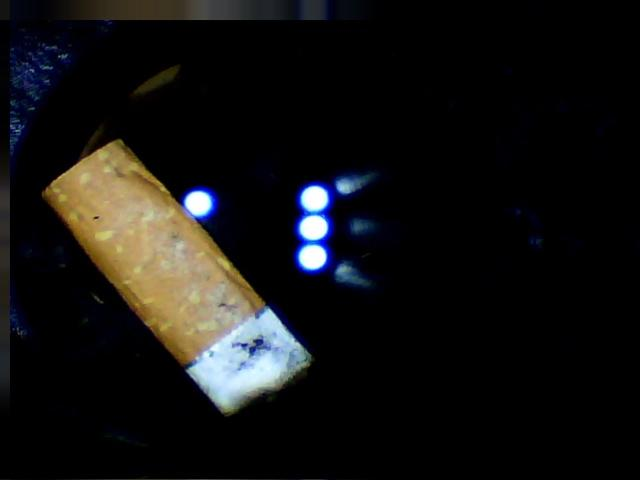megot: (12, 122, 326, 446)
